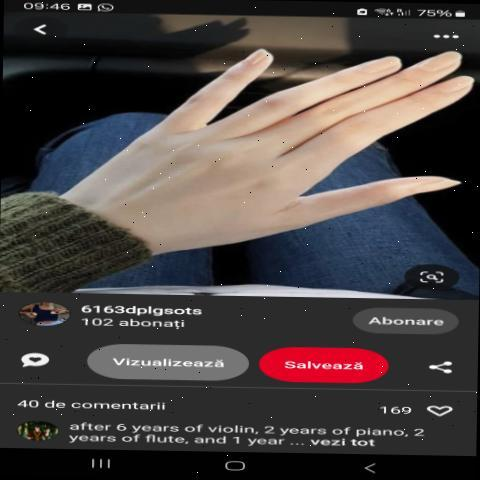Hands: (139, 10, 479, 268)
